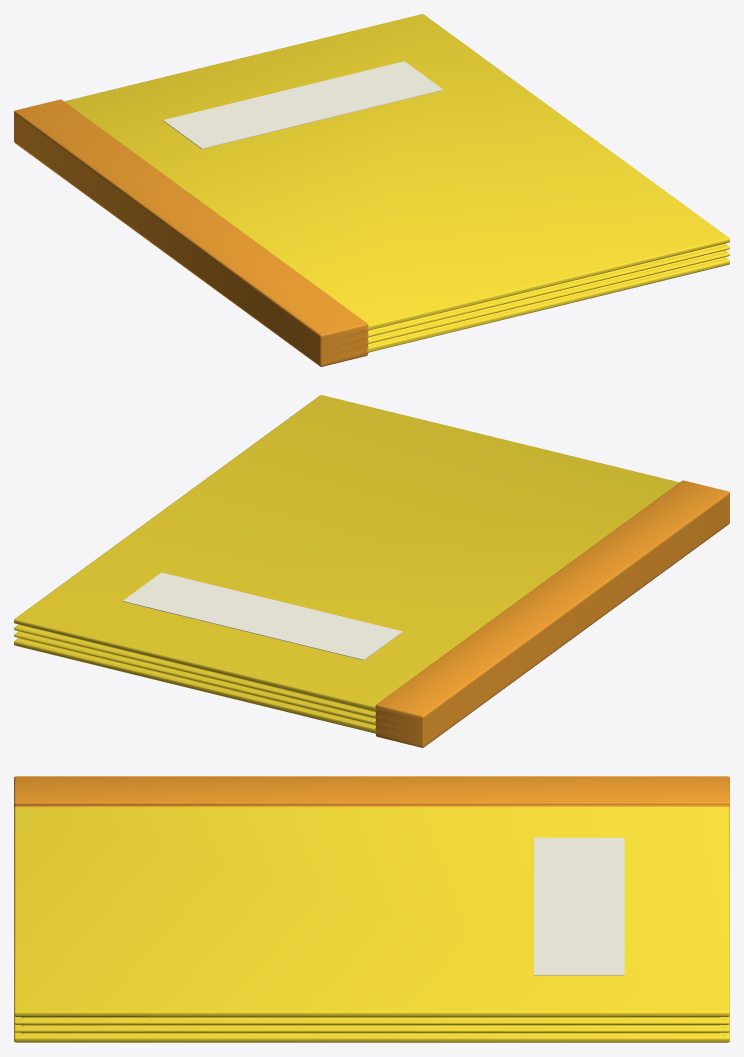
The model's file is note_01_yellow.fbx.
3 views of the same model, one above another, from view 1: azimuth 30°, elevation 25°; view 2: azimuth 150°, elevation 25°; view 3: azimuth 270°, elevation 25° (orthographic). The views are drawn at different scales.
Parts seen in each view (by area): view 1: note_01_yellow; view 2: note_01_yellow; view 3: note_01_yellow.
Part boxes in pixels (x1,y1,x2,y2): note_01_yellow: [14, 14, 729, 366]; note_01_yellow: [14, 395, 729, 747]; note_01_yellow: [14, 776, 729, 1042].
Bounding box in the file's own units: 1.79 × 0.1356 × 2.32.
